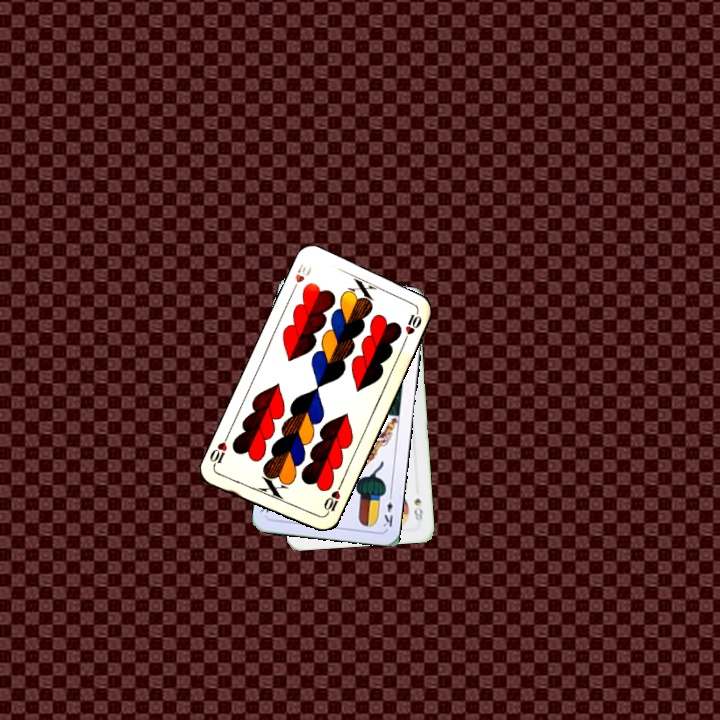EK: (379, 489, 395, 529)
H10: (287, 260, 314, 296), (320, 481, 344, 519)
S8: (410, 494, 425, 524)
